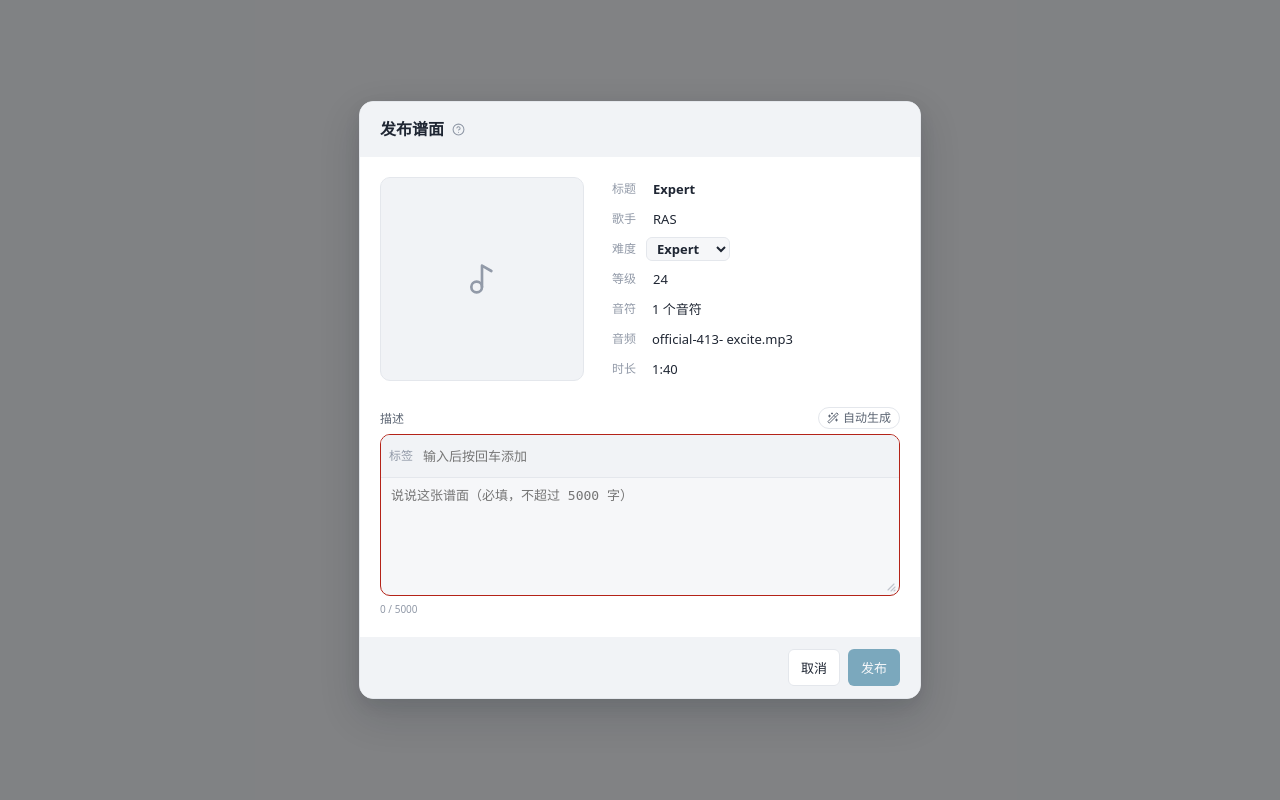
Test: 票 11 · 发布弹窗：失败就地内联 › 平台拒了：告警块留在弹窗里，可重试（仍过确认门）、可关闭（票 50 #2）
Type "x" into the text box with placeholder "说说这张谱面（必填，不超过 5000 字）" at (640, 536), box x1=381 y1=478 x2=899 y2=595
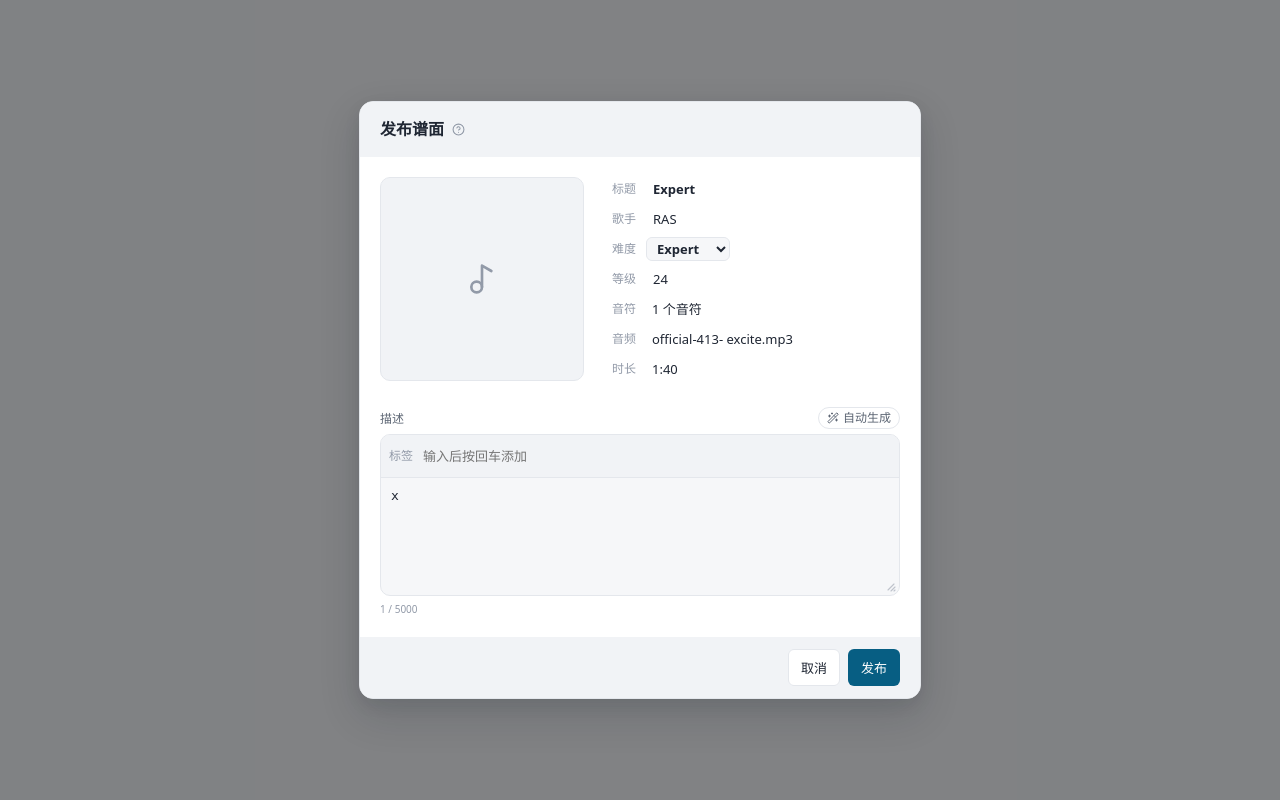
Click the button "发布" at (874, 667), box x1=848 y1=649 x2=900 y2=686
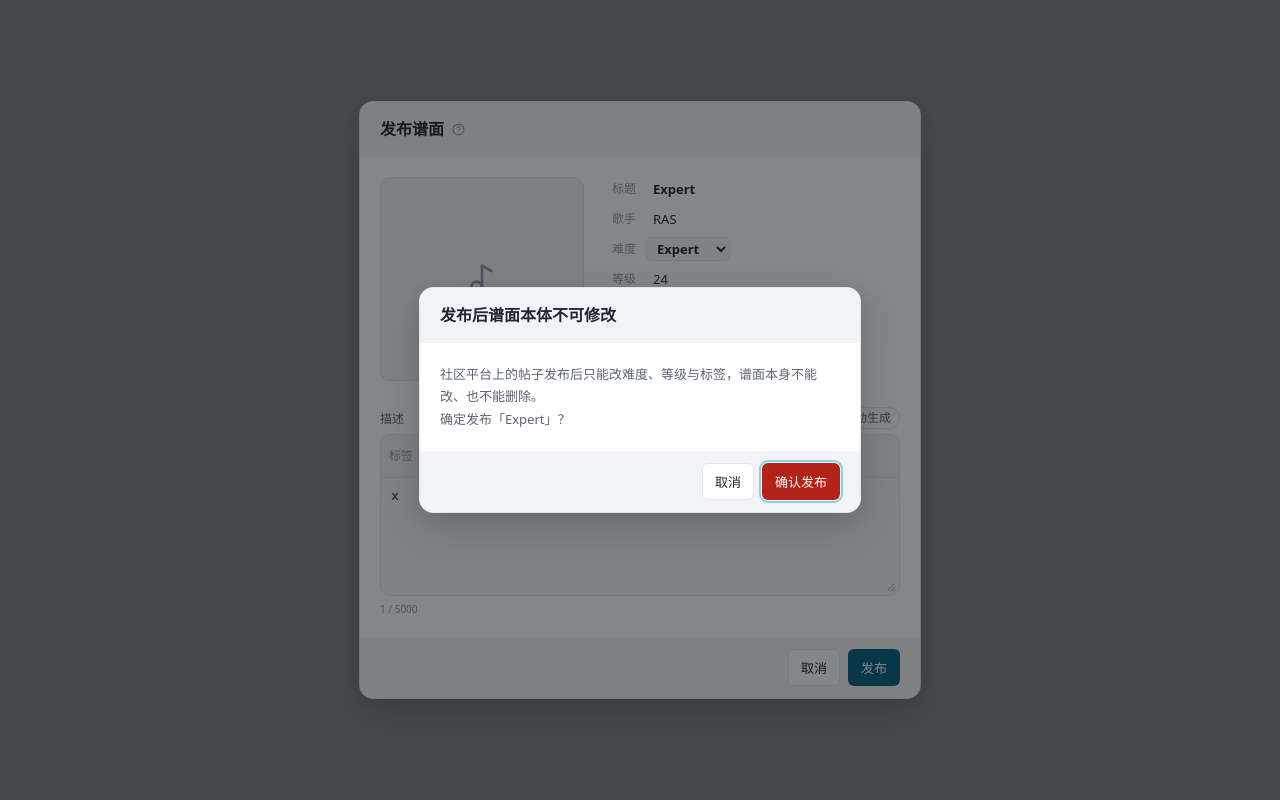
Click the button "确认发布" at (801, 481), box x1=762 y1=463 x2=840 y2=500
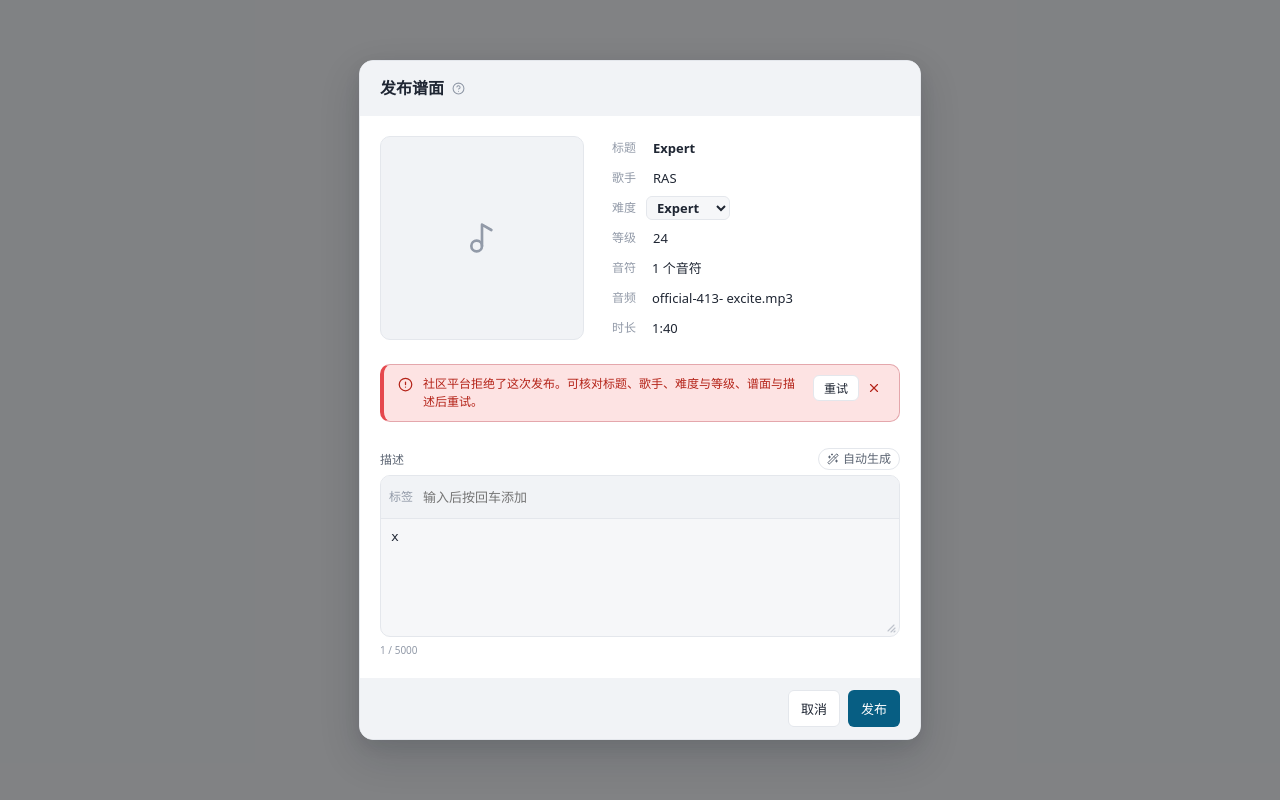
Expected: the dialog is shown, x1=359 y1=60 x2=921 y2=740
Now the message shows "社区平台拒绝了这次发布。可核对标题、歌手、难度与等级、谱面与描述后重试。", box x1=423 y1=375 x2=795 y2=410
Click the button "重试" at (836, 388), box x1=813 y1=375 x2=859 y2=401
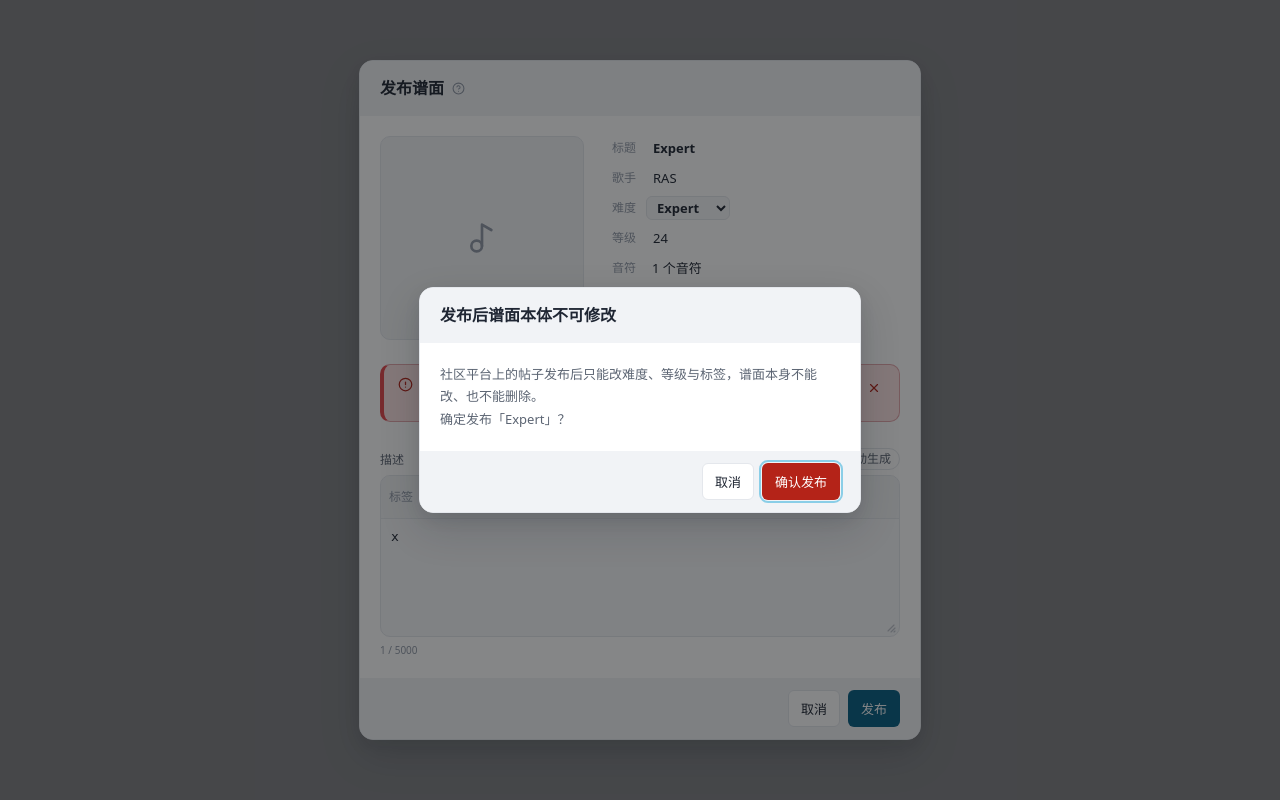
Click the button "确认发布" at (801, 481), box x1=762 y1=463 x2=840 y2=500
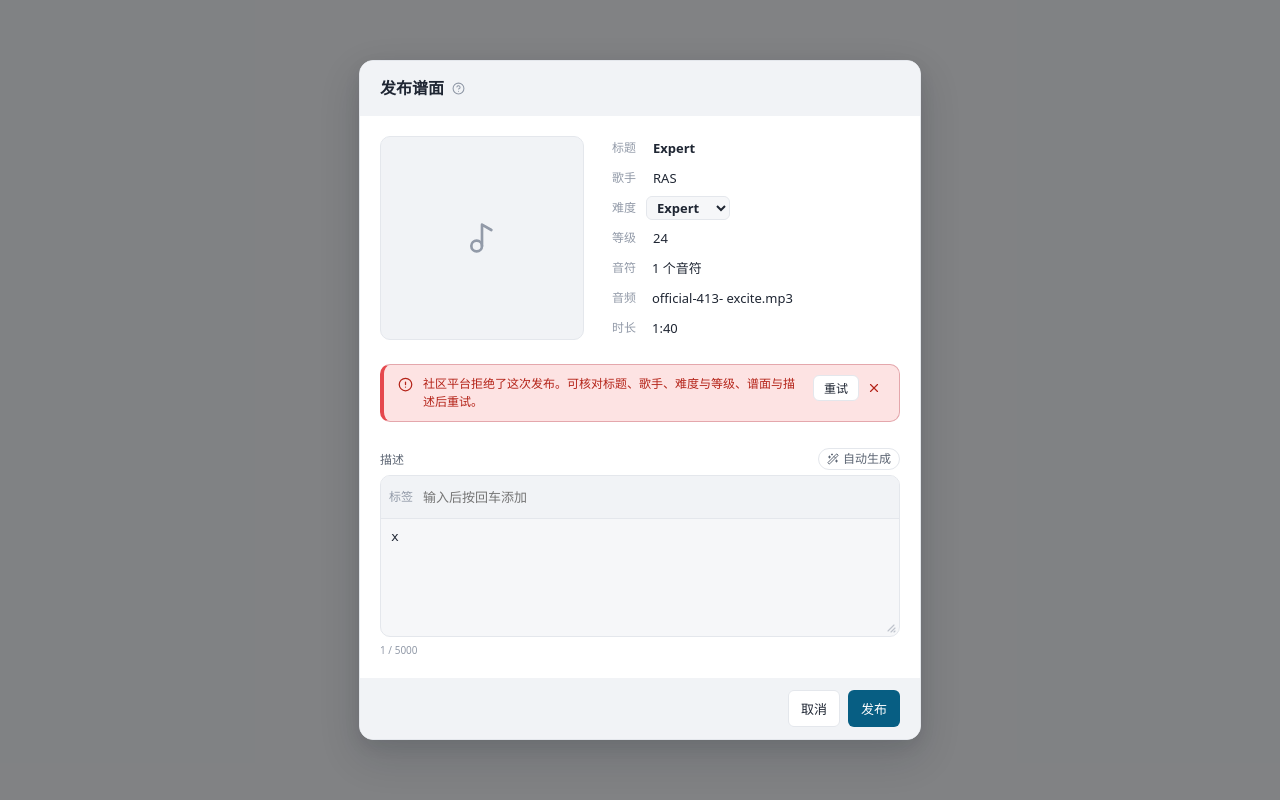
Click the button named "关闭提示" at (874, 388), box x1=863 y1=377 x2=885 y2=399
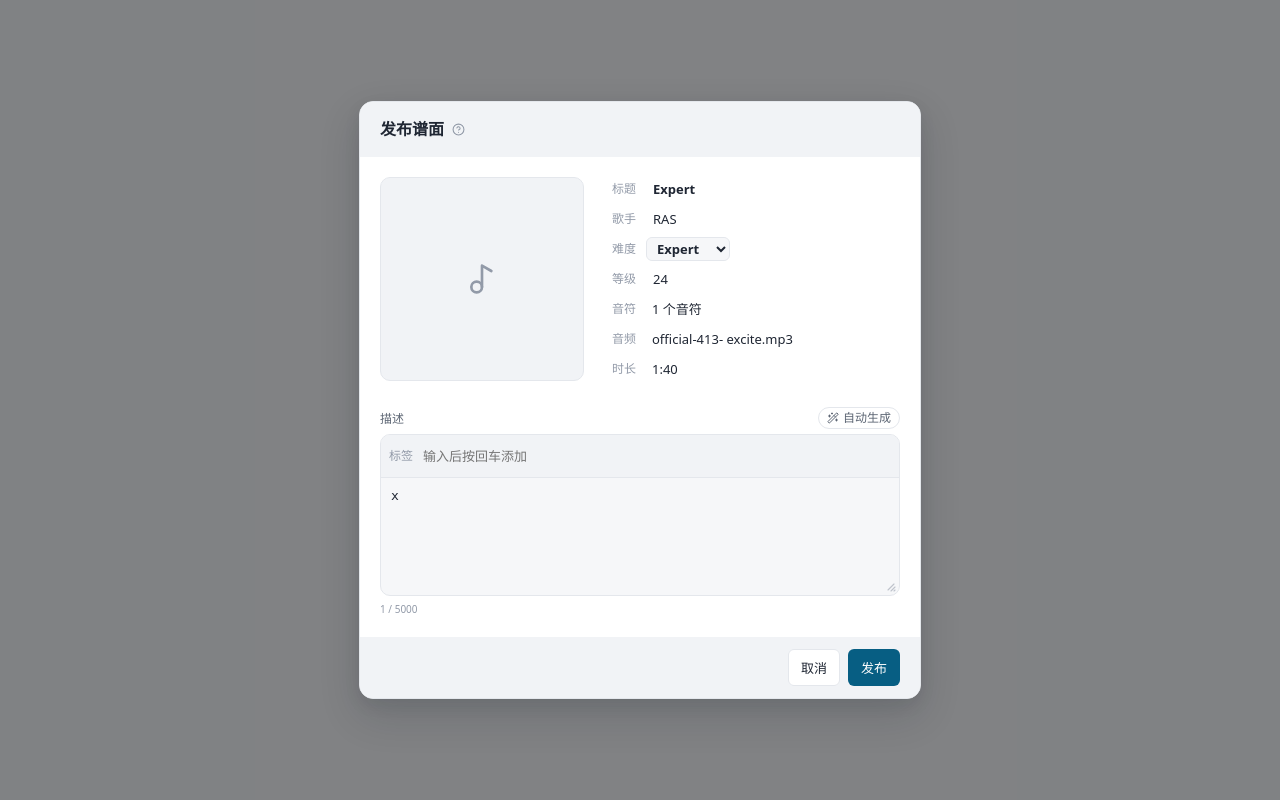
Expected: the dialog is shown, x1=359 y1=101 x2=921 y2=699
Now the message "社区平台拒绝了这次发布。可核对标题、歌手、难度与等级、谱面与描述后重试。 重试" is gone
